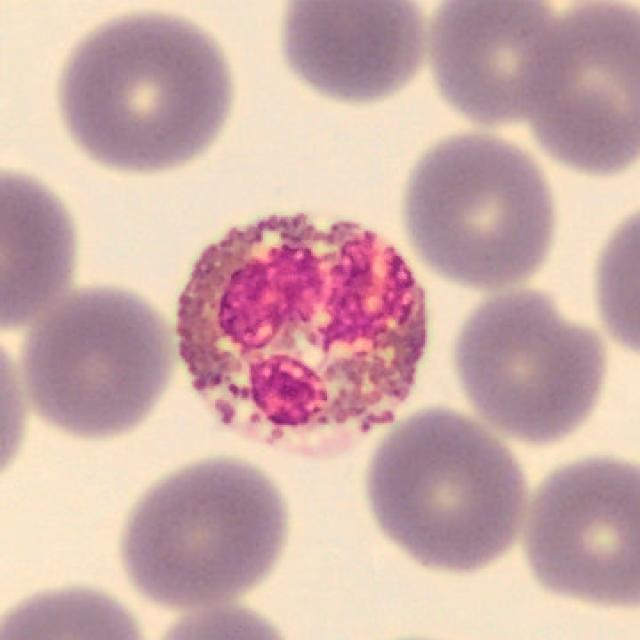Eosinofilo: (176, 215, 427, 459)
